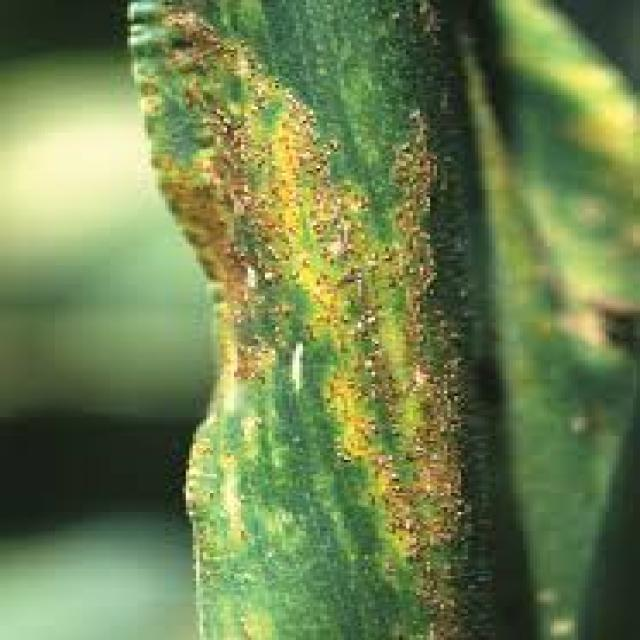Corn_Rust: (90, 0, 540, 640)
